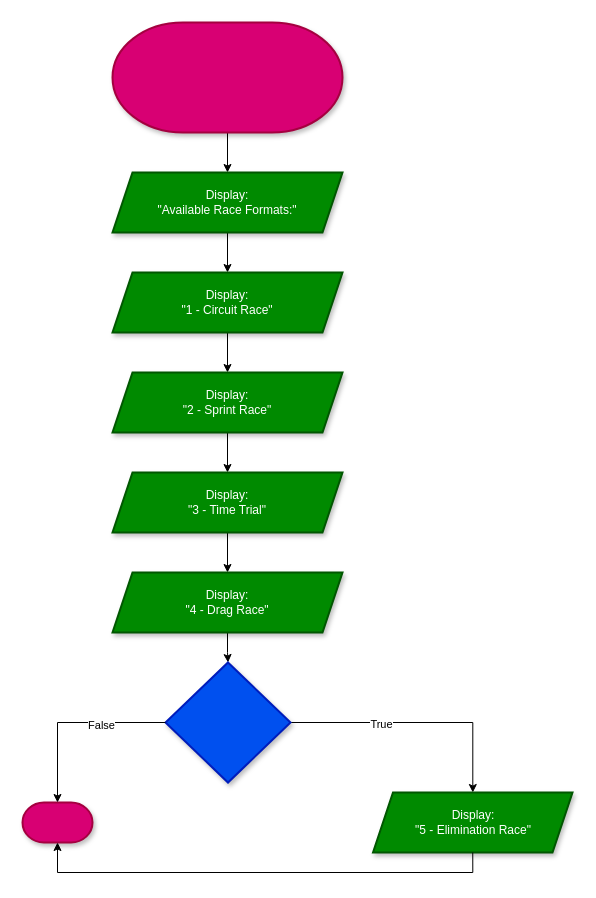
The diagram is 596 pixels wide and 898 high, and some of its shapes have lost their labels. Here are the shapes that lost their labels. From the top down, the centre of each, then its label:
the point at 228,78: displayRaceFormat(string bookingType)
the point at 228,723: bookingType == "Group"
the point at 58,823: End
